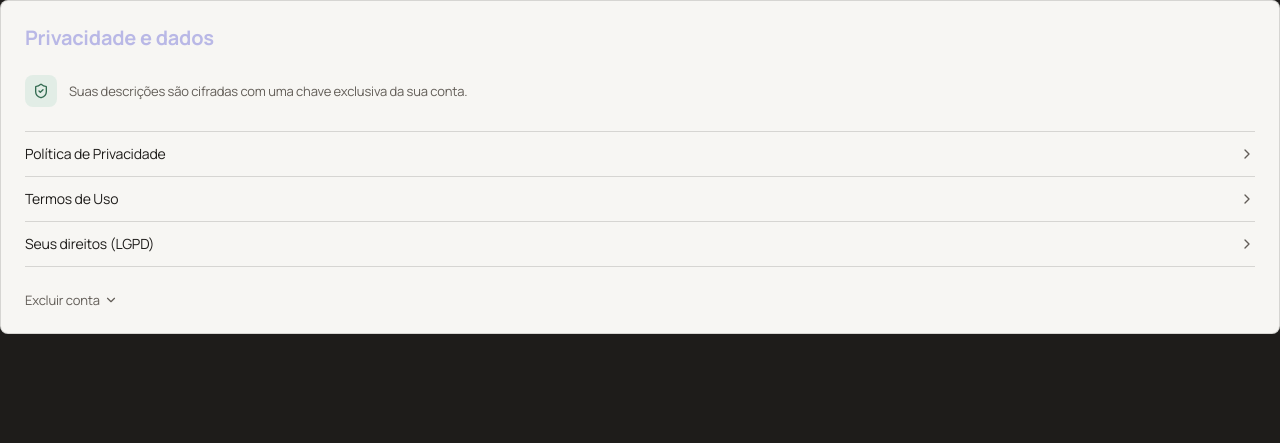
it: DeleteAccount › keeps the delete form folded until it is asked for
The width and height of the screenshot is (1280, 443).
Check: the field labelled "Confirme com sua senha" is not shown
Click the button "Excluir conta": [71, 300] box [25,291,118,309]
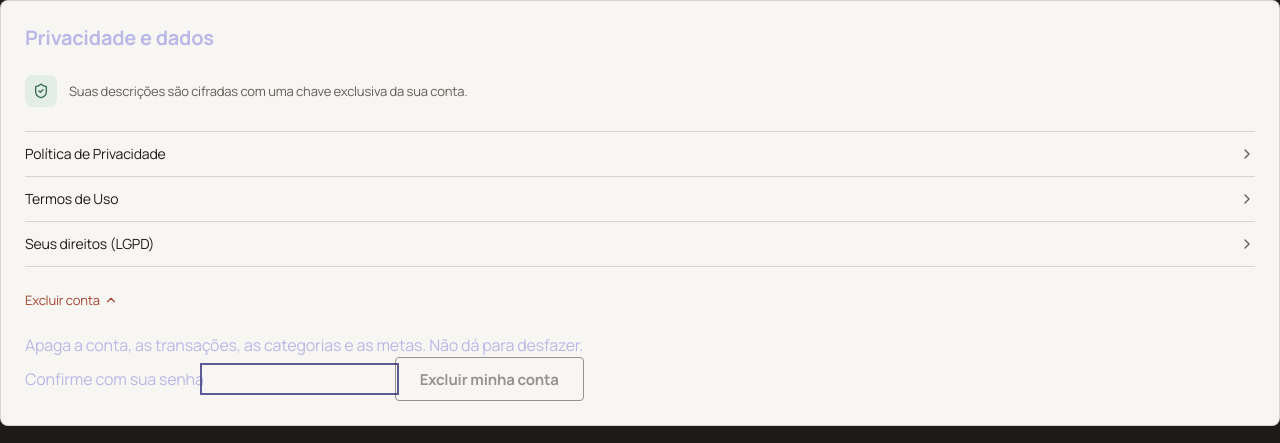
Check: the button "Excluir conta" is expanded, box [25,291,118,309]
Check: the password field labelled "Confirme com sua senha" is shown, box [204,366,395,390]
